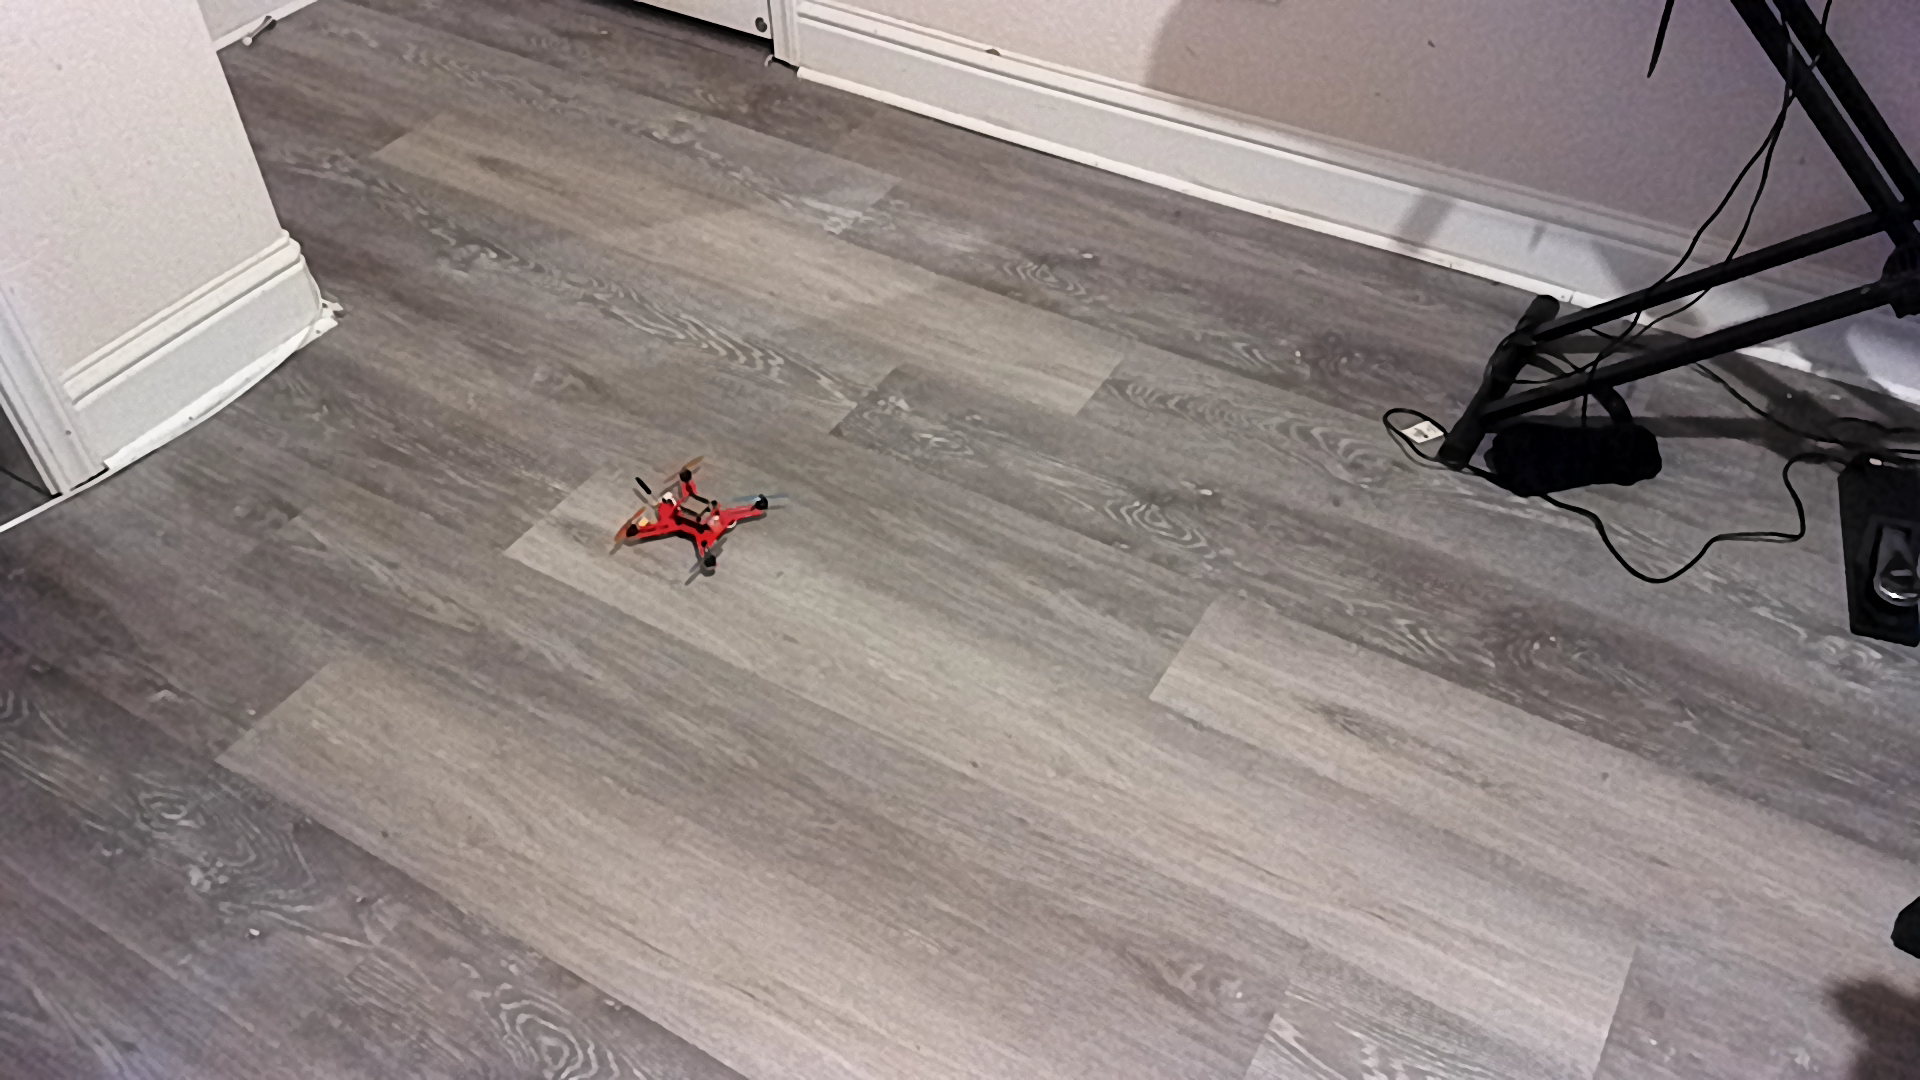drone: (615, 456, 789, 591)
